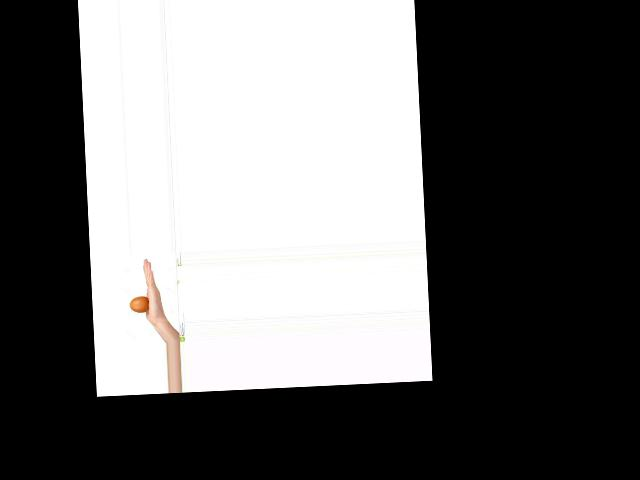egg: (129, 295, 150, 312)
